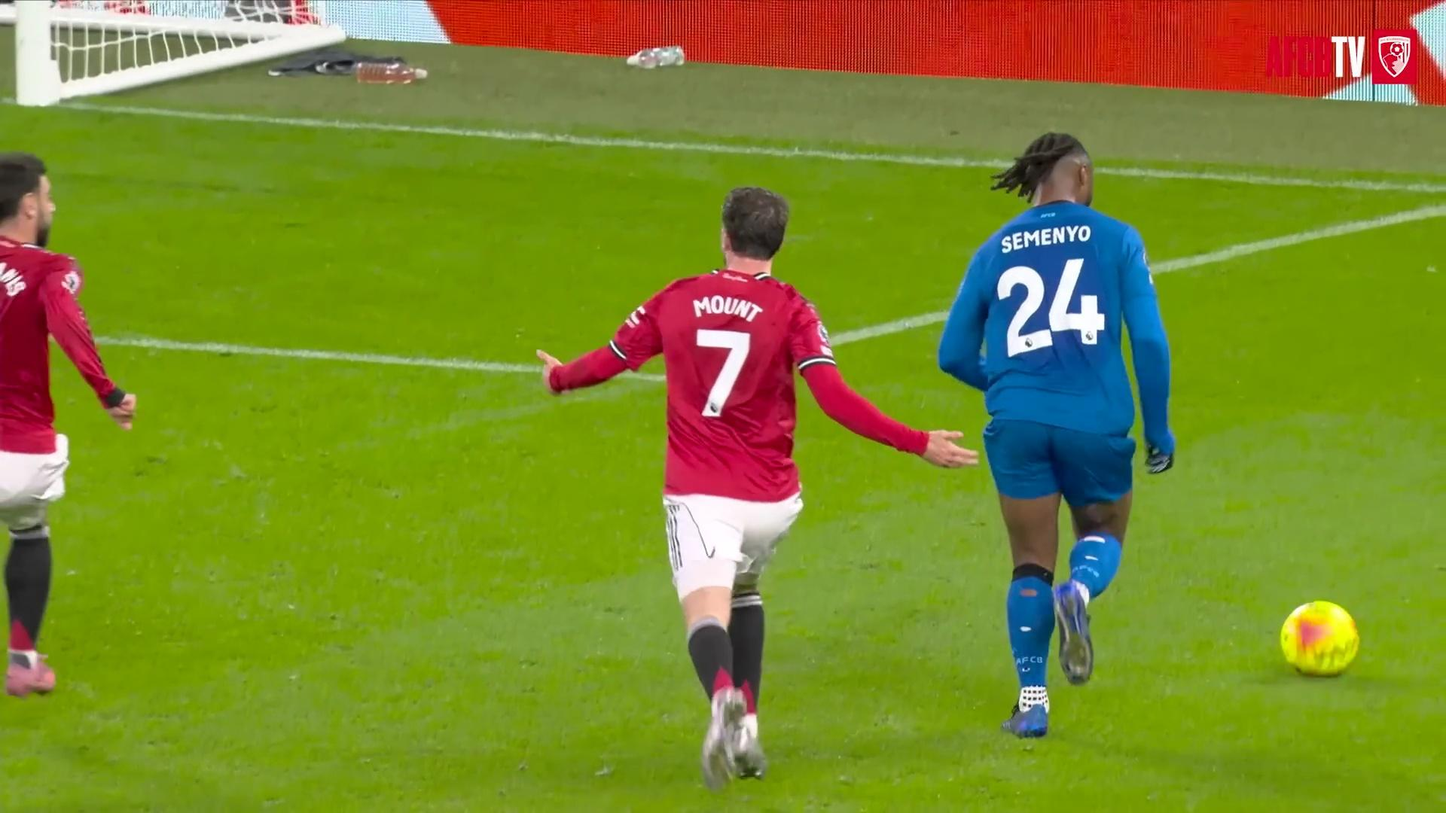football: (1280, 601, 1359, 676)
player: (538, 187, 977, 789), (938, 132, 1174, 736), (0, 154, 136, 696)
